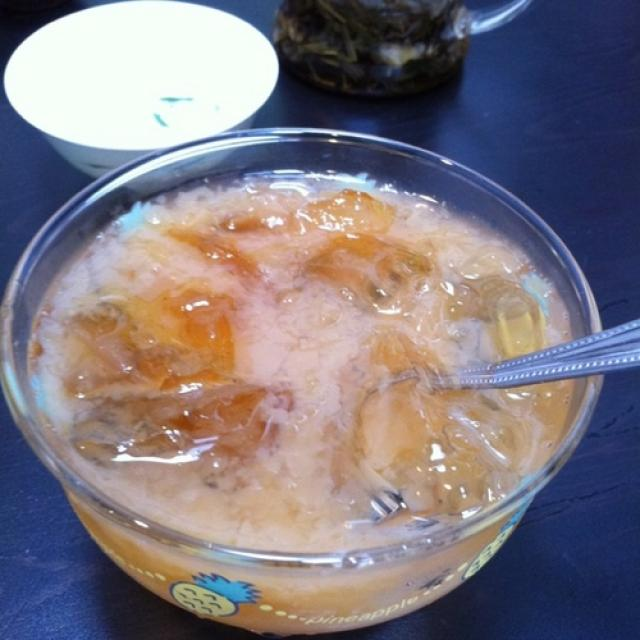蛋糕甜品: (23, 121, 599, 592)
